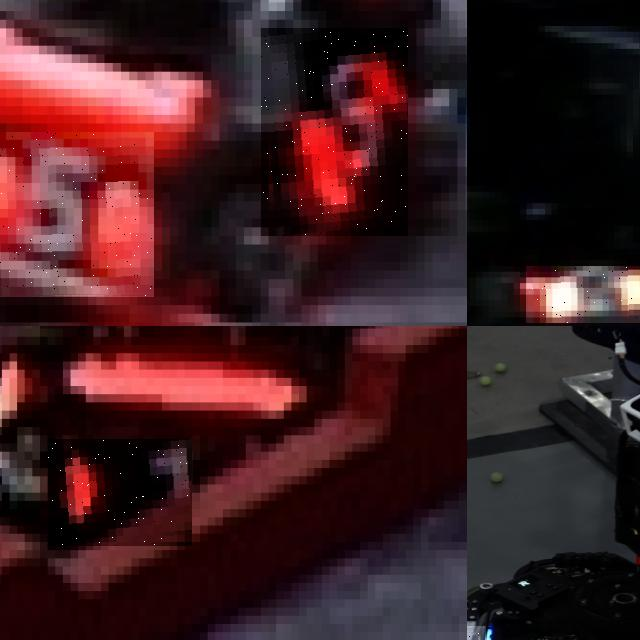R1: (48, 439, 192, 546)
R5: (261, 28, 408, 236), (0, 132, 153, 296)
Rs: (526, 266, 640, 323)
